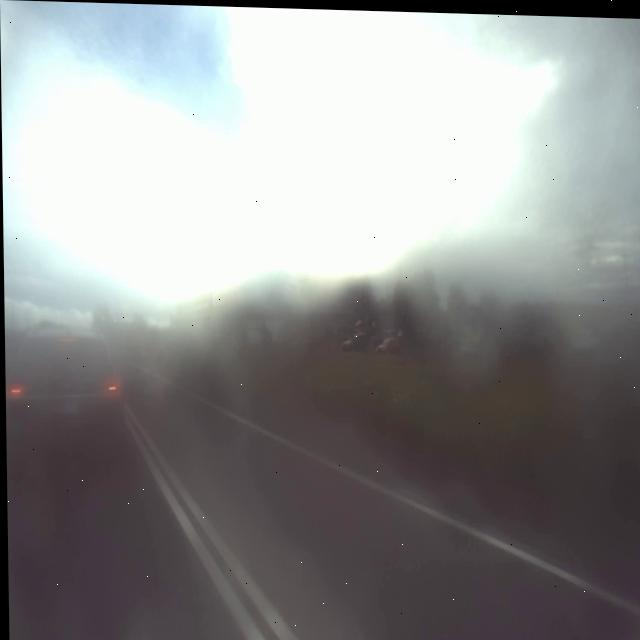car: (5, 311, 123, 475)
